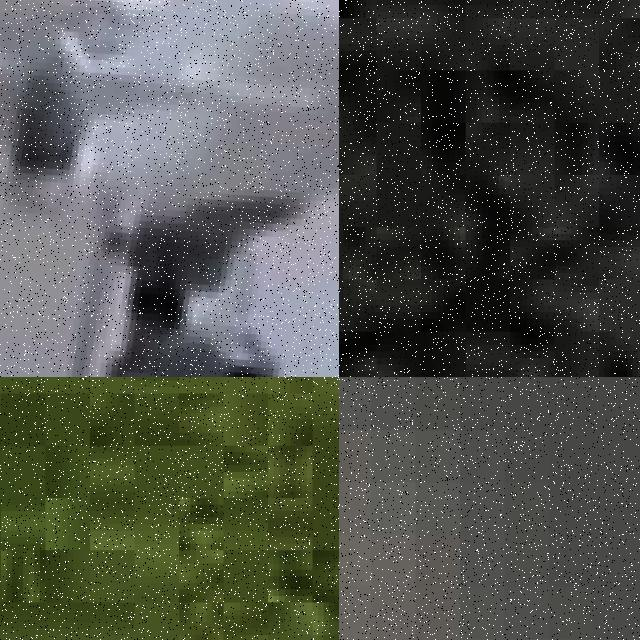drone: (0, 0, 339, 377)
